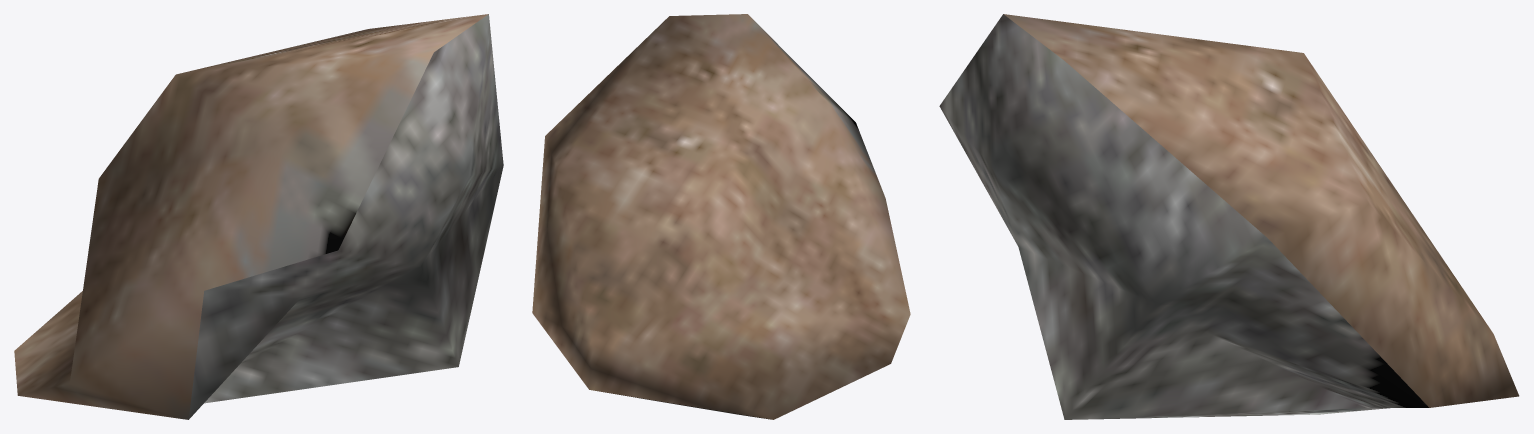
Rendered from asteroid9.fbx.
3 renders of one model, left to right at view 1: azimuth 30°, elevation 25°; view 2: azimuth 150°, elevation 25°; view 3: azimuth 270°, elevation 25°, orthographic. The views are drawn at different scales.
Visible parts, largest first — view 1: PipelineFBX; view 2: PipelineFBX; view 3: PipelineFBX.
Part boxes in pixels (x1,y1,x2,y2): PipelineFBX: (14,14,503,419); PipelineFBX: (532,14,910,419); PipelineFBX: (939,14,1519,419).
Bounding box in the file's own units: 88.88 × 77 × 86.3.
1 material, 1 textured.
